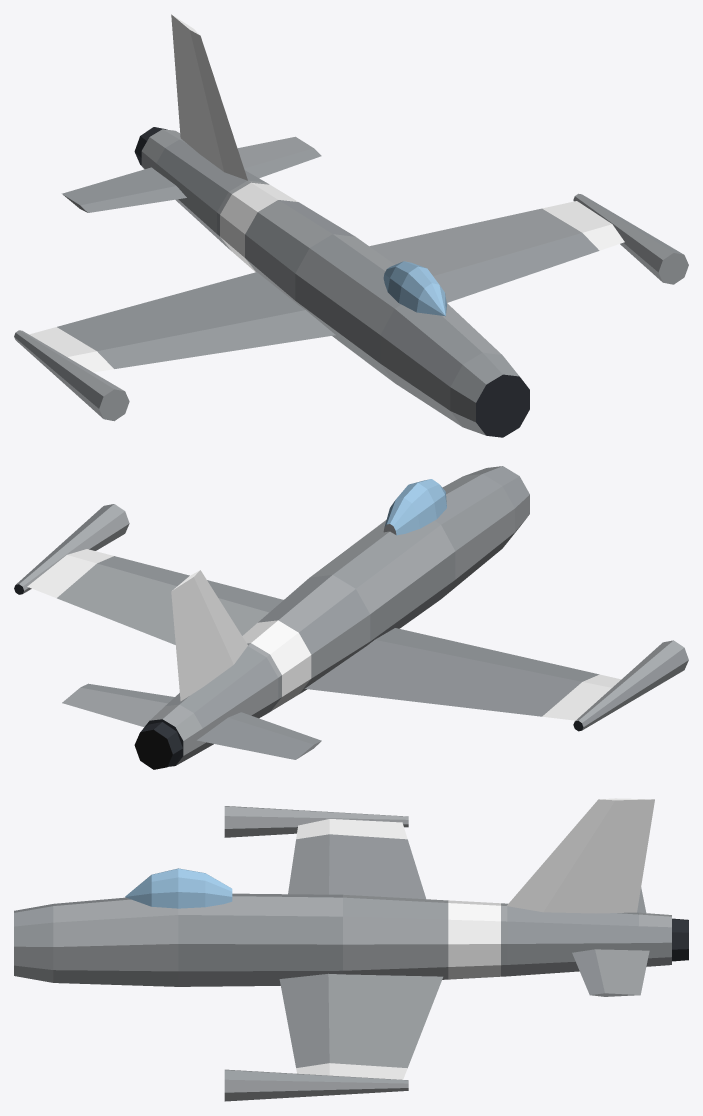
3 views of the same model, one above another, from view 1: azimuth 30°, elevation 25°; view 2: azimuth 150°, elevation 25°; view 3: azimuth 270°, elevation 25° (orthographic). The views are drawn at different scales.
Parts seen in each view (by area): view 1: body; view 2: body; view 3: body.
Boxes of the visible parts, x1,y1,x2,y2 form: body: (14, 14, 688, 437); body: (14, 466, 688, 769); body: (14, 798, 688, 1101).
Size of the model in its own units: 11.6 by 3.6 by 11.9.
